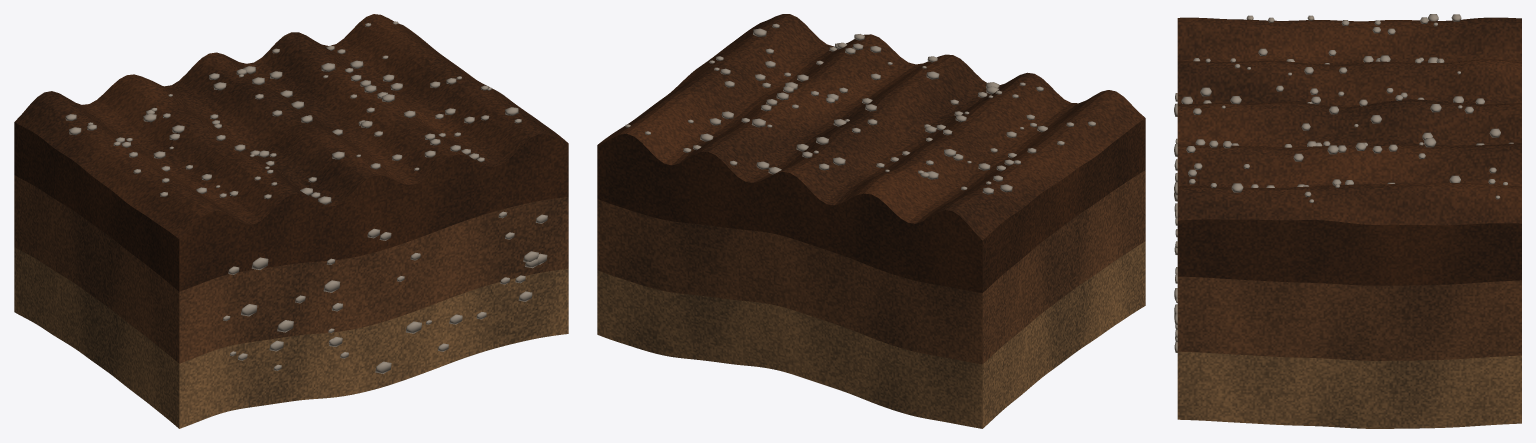
Rendered from soil.glb.
The picture shows the model from 3 angles, left to right: view 1: azimuth 30°, elevation 25°; view 2: azimuth 150°, elevation 25°; view 3: azimuth 270°, elevation 25°; orthographic projection. The views are drawn at different scales.
Parts seen in each view (by area): view 1: Topsoil / cultivated ridges, Subsoil / loam, Parent layer / mineral, Soil aggregates and exposed mineral inclusions; view 2: Topsoil / cultivated ridges, Subsoil / loam, Parent layer / mineral, Soil aggregates and exposed mineral inclusions; view 3: Topsoil / cultivated ridges, Subsoil / loam, Parent layer / mineral, Soil aggregates and exposed mineral inclusions.
Part boxes in pixels (x1=…): Topsoil / cultivated ridges: x1=14, y1=14, x2=568, y2=291; Subsoil / loam: x1=14, y1=175, x2=568, y2=363; Parent layer / mineral: x1=14, y1=247, x2=568, y2=428; Soil aggregates and exposed mineral inclusions: x1=65, y1=21, x2=547, y2=373; Topsoil / cultivated ridges: x1=597, y1=14, x2=1145, y2=293; Subsoil / loam: x1=597, y1=170, x2=1145, y2=364; Parent layer / mineral: x1=597, y1=241, x2=1145, y2=428; Soil aggregates and exposed mineral inclusions: x1=625, y1=23, x2=1095, y2=194; Topsoil / cultivated ridges: x1=1177, y1=17, x2=1521, y2=285; Subsoil / loam: x1=1177, y1=276, x2=1521, y2=360; Parent layer / mineral: x1=1177, y1=351, x2=1521, y2=428; Soil aggregates and exposed mineral inclusions: x1=1174, y1=14, x2=1513, y2=352.
Bounding box in the file's own units: 3 × 1.63 × 2.22.
4 materials, 3 textured.
